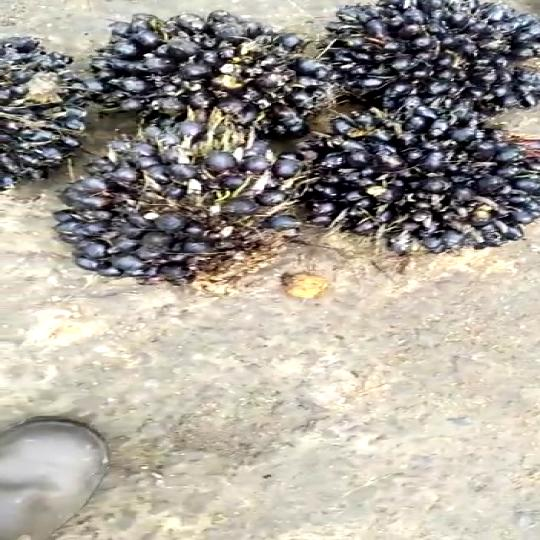mentah: (0, 0, 540, 293)
